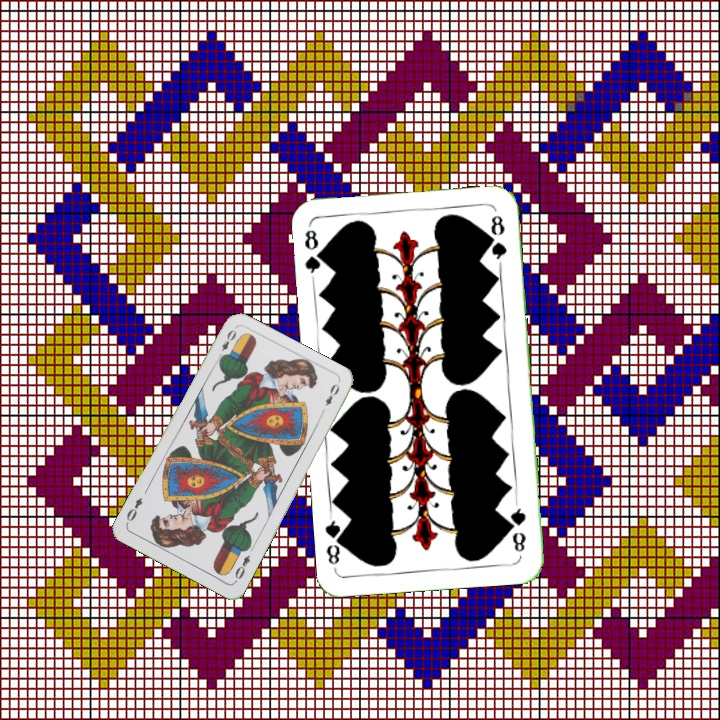EO: (213, 325, 239, 363), (231, 551, 253, 585)
G8: (300, 223, 328, 282), (506, 504, 529, 555)
